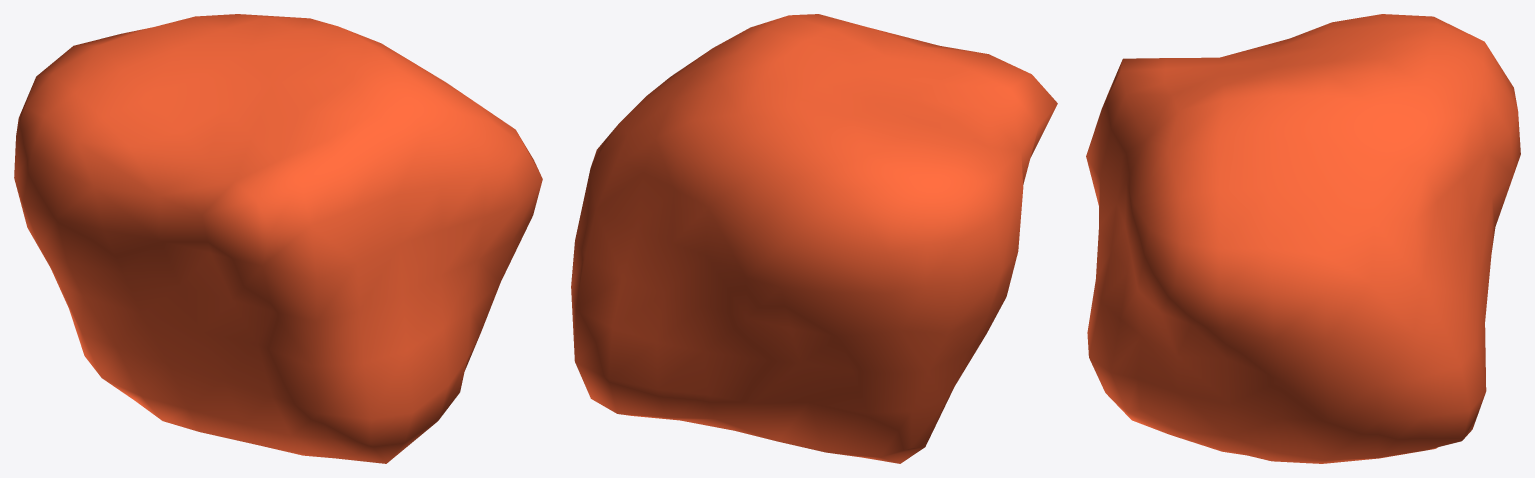
The picture shows the model from 3 angles, left to right: view 1: azimuth 30°, elevation 25°; view 2: azimuth 150°, elevation 25°; view 3: azimuth 270°, elevation 25°; orthographic projection. The views are drawn at different scales.
Parts seen in each view (by area): view 1: Roca08; view 2: Roca08; view 3: Roca08.
Boxes of the visible parts, x1,y1,x2,y2 form: Roca08: [14, 14, 542, 463]; Roca08: [571, 14, 1057, 463]; Roca08: [1086, 14, 1520, 463].
Size of the model in its own units: 80.77 by 67.82 by 71.15.
